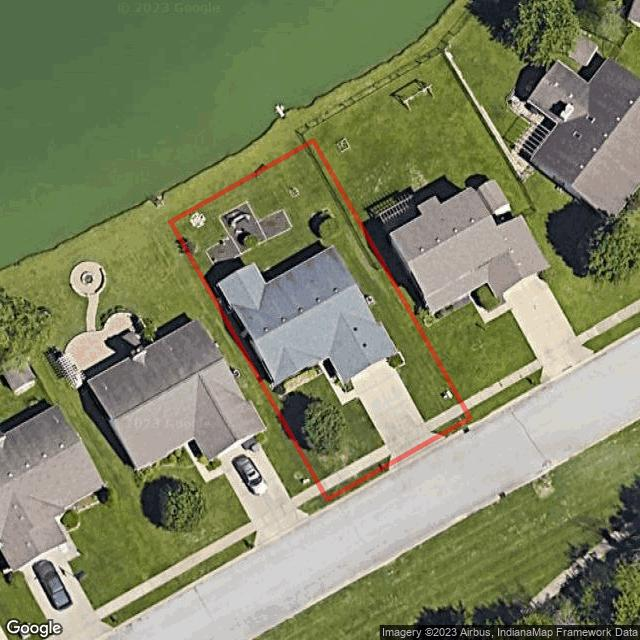Driveway: (352, 360, 438, 461)
Extra Driveway: (389, 436, 446, 471)
Extra Lawn: (327, 467, 389, 505), (444, 419, 475, 437)
House: (218, 246, 395, 384)
Other: (206, 202, 292, 268), (190, 211, 206, 228), (366, 295, 374, 304)
Sidewalk: (320, 445, 390, 491), (320, 359, 358, 404), (425, 403, 464, 431), (282, 366, 321, 393)
